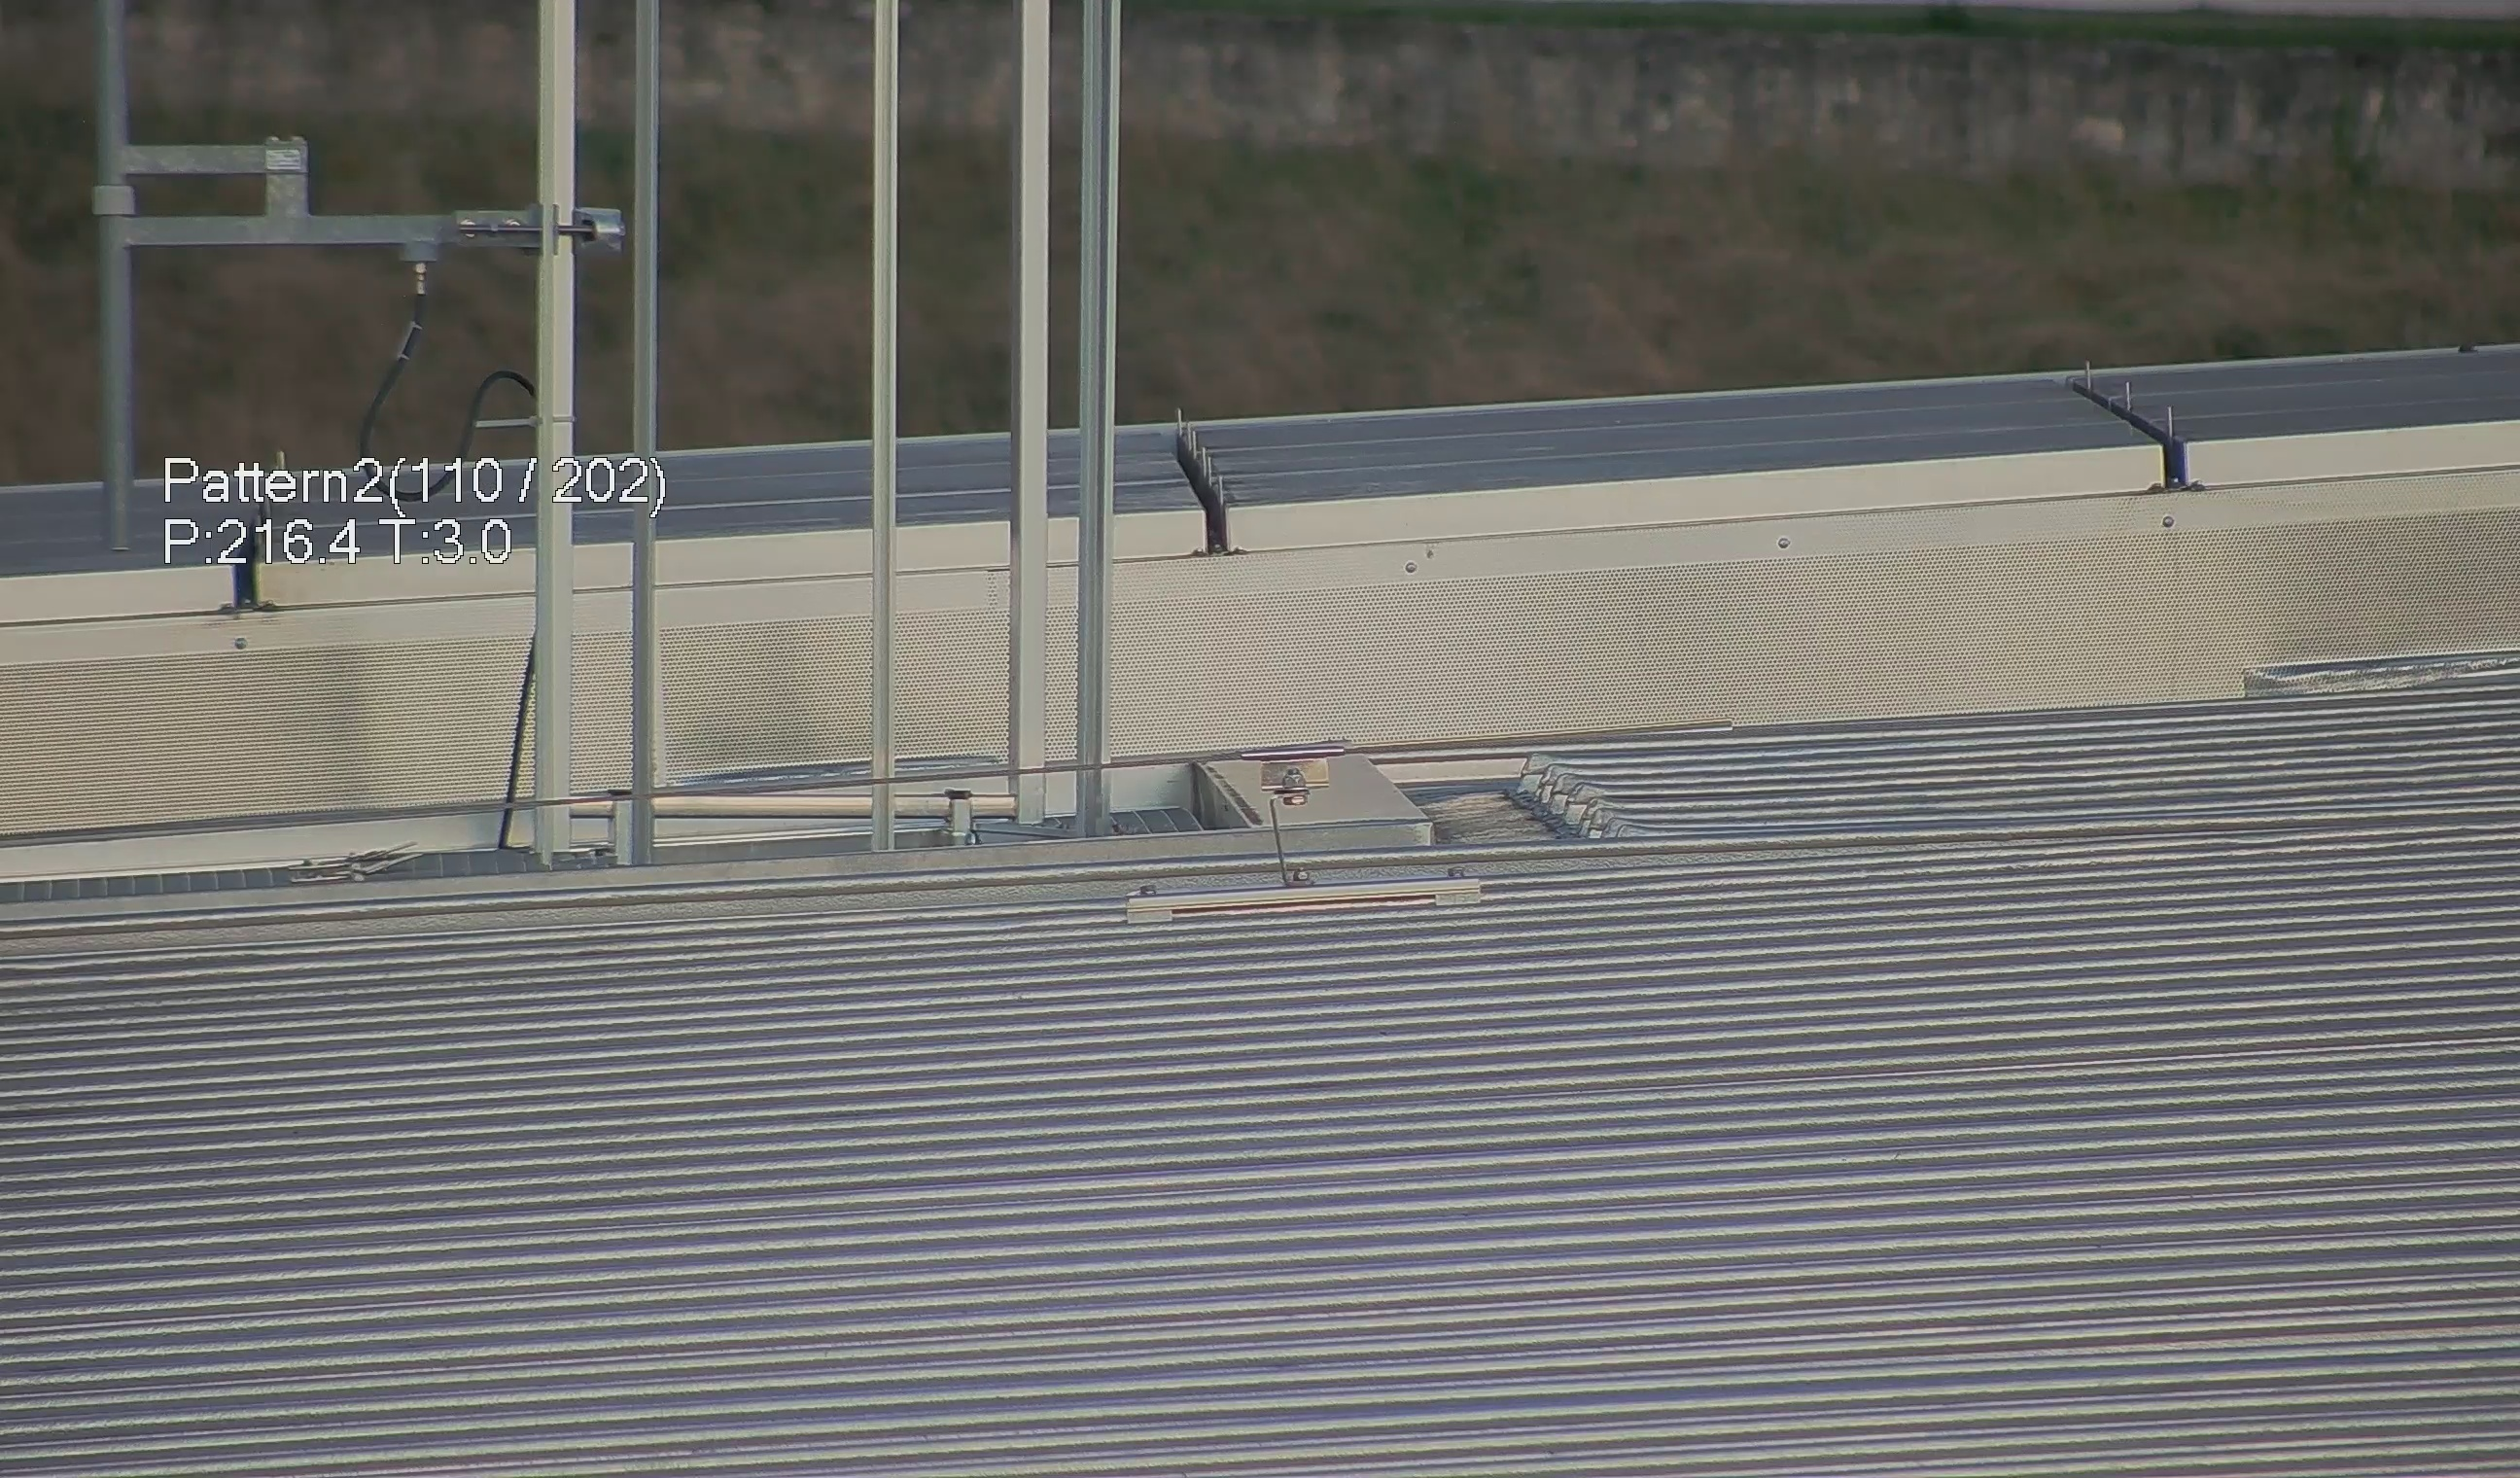Other: (1141, 391, 1254, 568)
